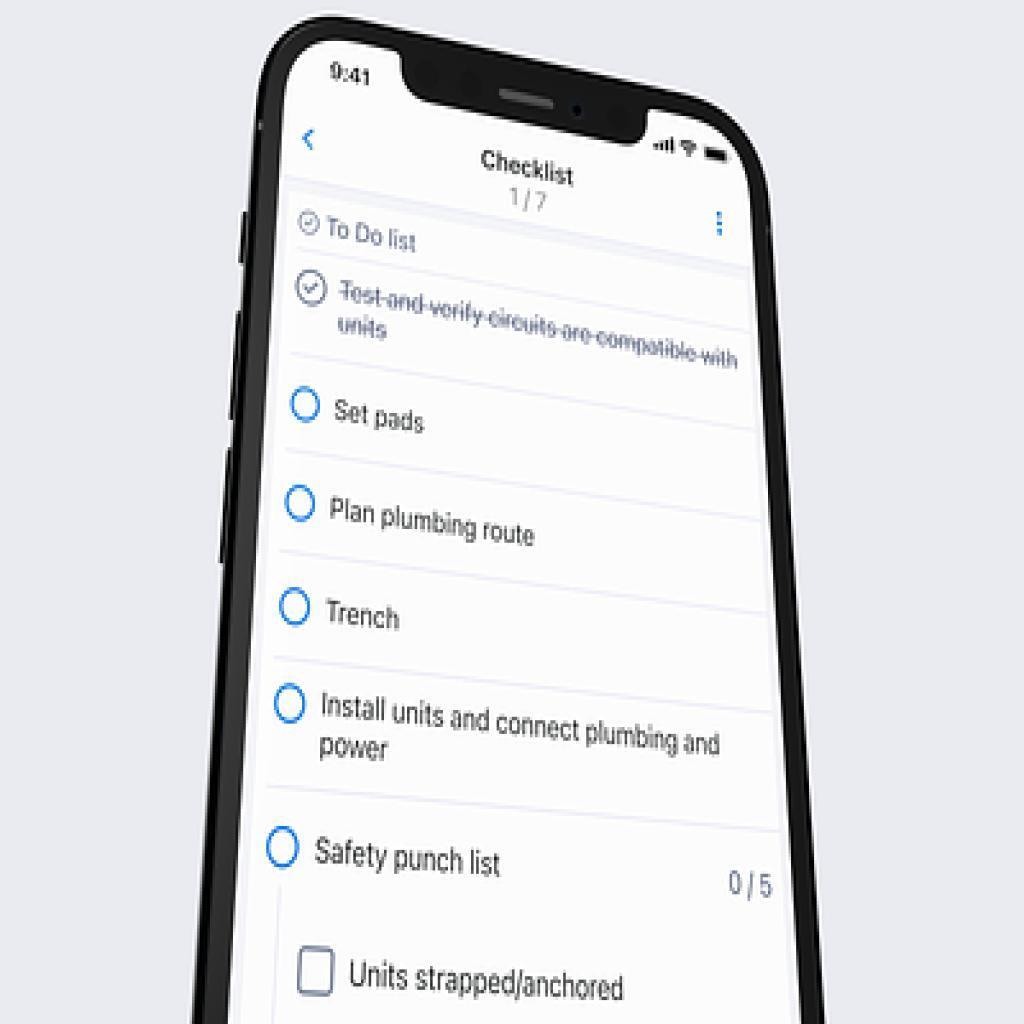checkbox: (297, 951, 336, 995)
radio: (276, 579, 315, 631), (272, 681, 316, 725), (265, 823, 304, 872), (283, 481, 320, 529), (290, 379, 326, 425)
